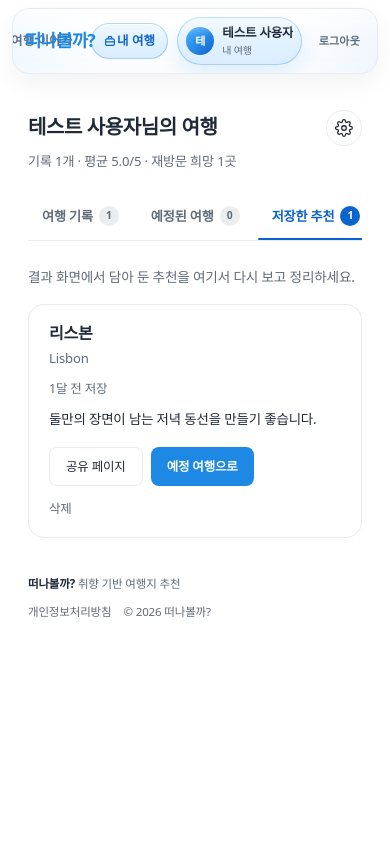
Test: AccountExperience future trips tab › deletes a saved snapshot after confirmation
This screenshot has width=390, height=844.
Click the button with test id "saved-delete-0". click: [60, 509]
box: [49,498,72,519]
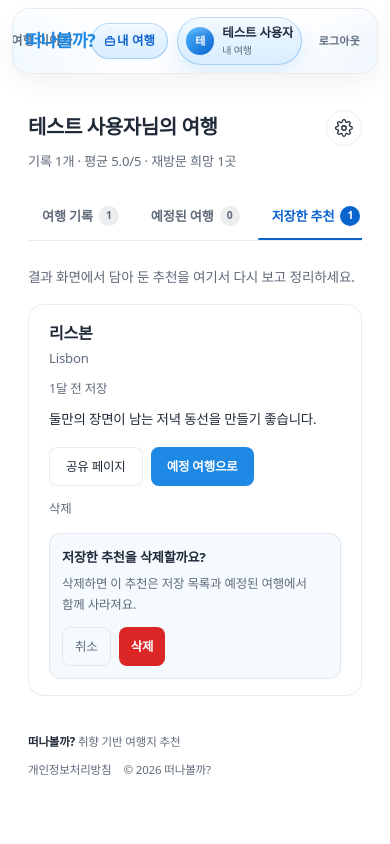
expect the element with test id "saved-delete-dialog-0" is shown: met, box [49,533,341,679]
expect the button with test id "saved-delete-cancel-0" is shown: met, box [62,627,111,666]
Click the button with test id "saved-delete-confirm-0". click: [142, 647]
box: [119,627,165,666]
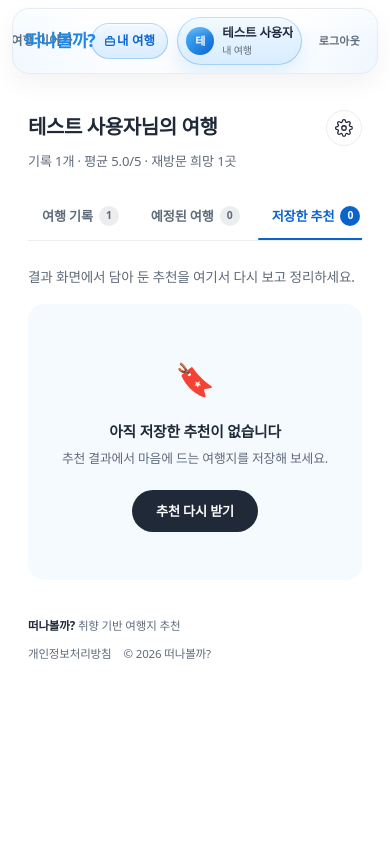
expect the element with test id "saved-snapshot-0" is gone: met
